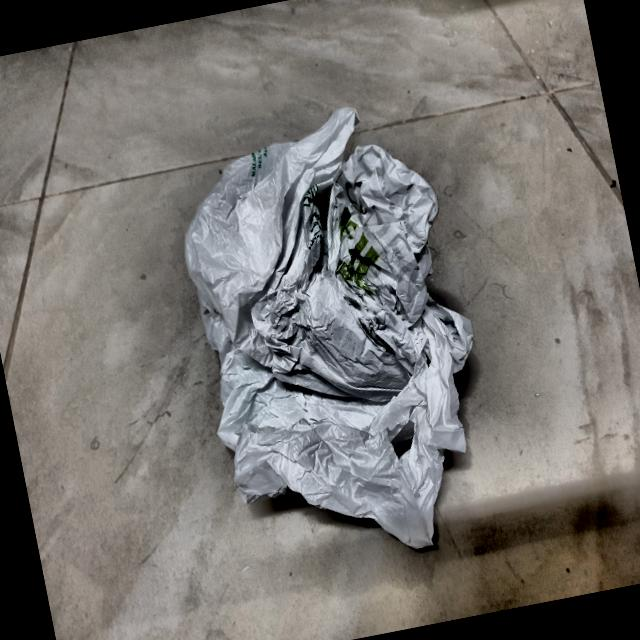plastic bag: (141, 80, 524, 596)
